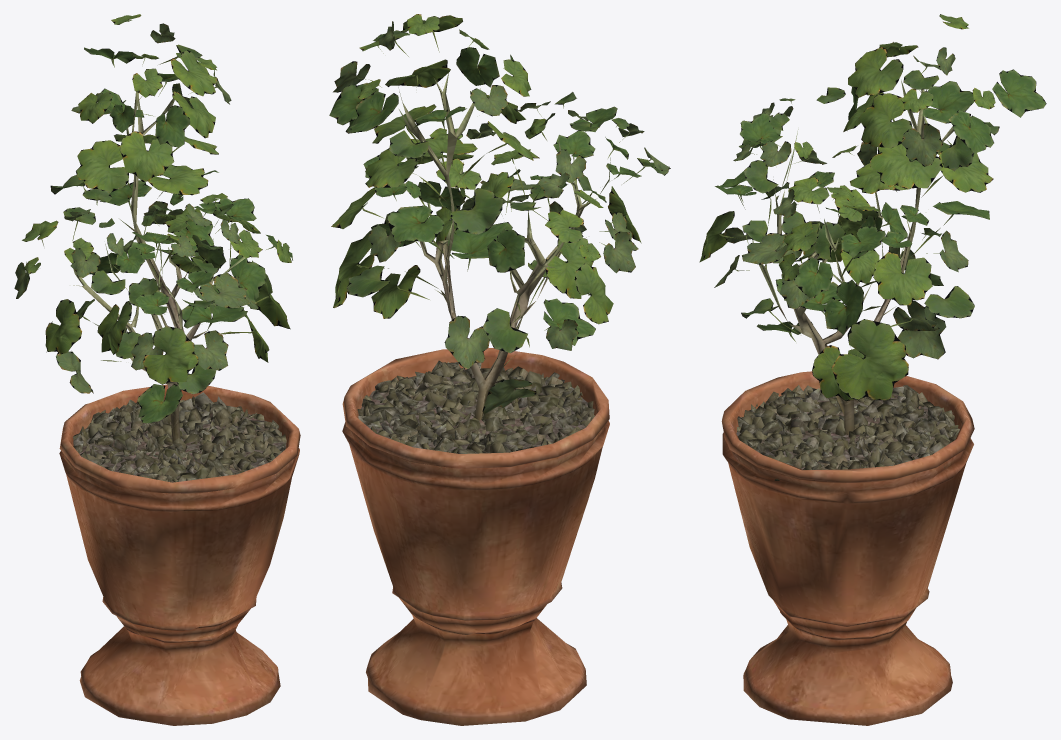
File: potted_plant_01.glb
3 views of the same model, side by side, from view 1: azimuth 30°, elevation 25°; view 2: azimuth 150°, elevation 25°; view 3: azimuth 270°, elevation 25° (orthographic). The views are drawn at different scales.
Visible parts, largest first — view 1: potted_plant_01_stem, potted_plant_01_leaves; view 2: potted_plant_01_stem, potted_plant_01_leaves; view 3: potted_plant_01_stem, potted_plant_01_leaves.
Part boxes in pixels (left/top/right/bottom): potted_plant_01_stem: left=59, top=91, right=300, bottom=725; potted_plant_01_leaves: left=14, top=14, right=292, bottom=423; potted_plant_01_stem: left=342, top=72, right=610, bottom=725; potted_plant_01_leaves: left=329, top=14, right=670, bottom=414; potted_plant_01_stem: left=721, top=80, right=974, bottom=725; potted_plant_01_leaves: left=699, top=14, right=1046, bottom=401.
Size of the model in its own units: 0.5866 by 1.33 by 0.6336.
2 materials, 2 textured.
